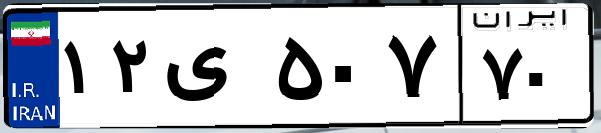0: (330, 28, 385, 110), (525, 38, 570, 115)
1: (57, 26, 110, 100)
2: (110, 28, 158, 98)
5: (270, 28, 330, 110)
7: (385, 28, 445, 110), (475, 38, 525, 113)
ی: (158, 20, 270, 120)
